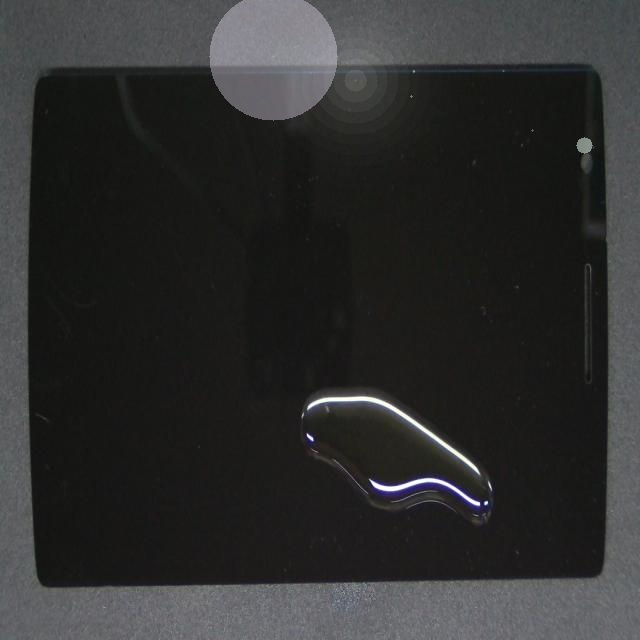oil: (252, 277, 640, 640)
